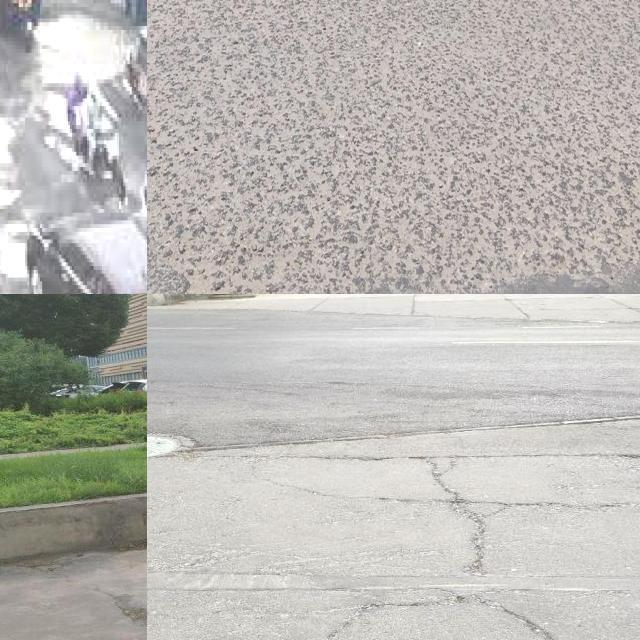Pothole: (38, 18, 123, 133)
